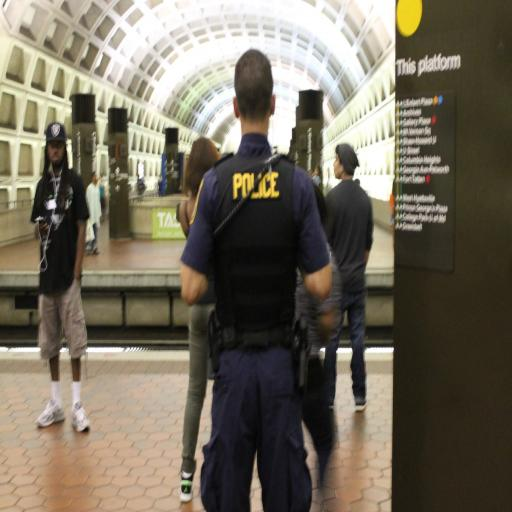platform_edge: (91, 331, 191, 387), (74, 255, 186, 298), (0, 257, 39, 303), (2, 330, 41, 372)
